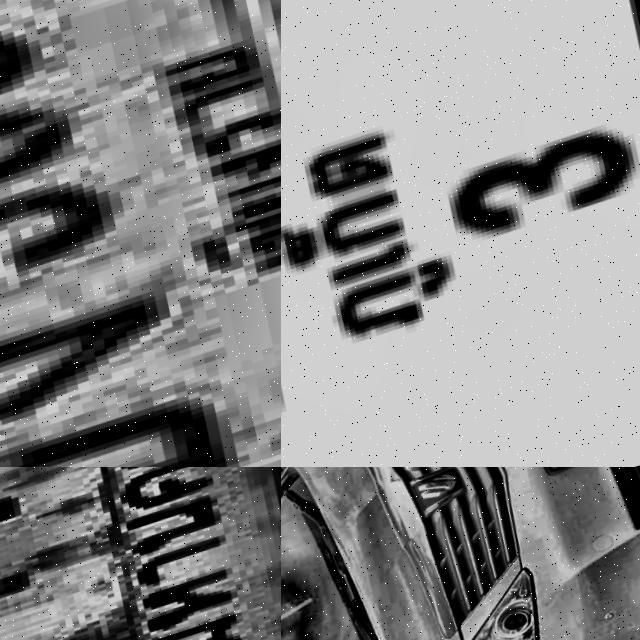license-plate: (281, 0, 640, 467), (0, 0, 281, 467), (0, 467, 281, 640), (505, 467, 611, 491)
